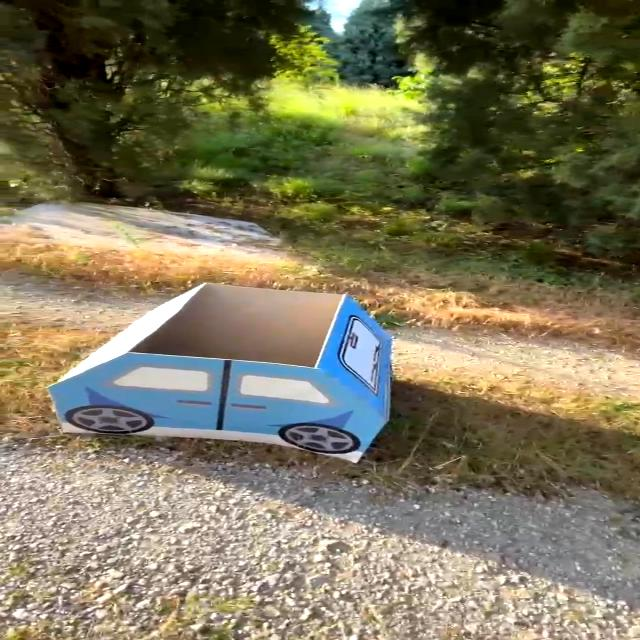blue_car: (4, 250, 441, 496)
